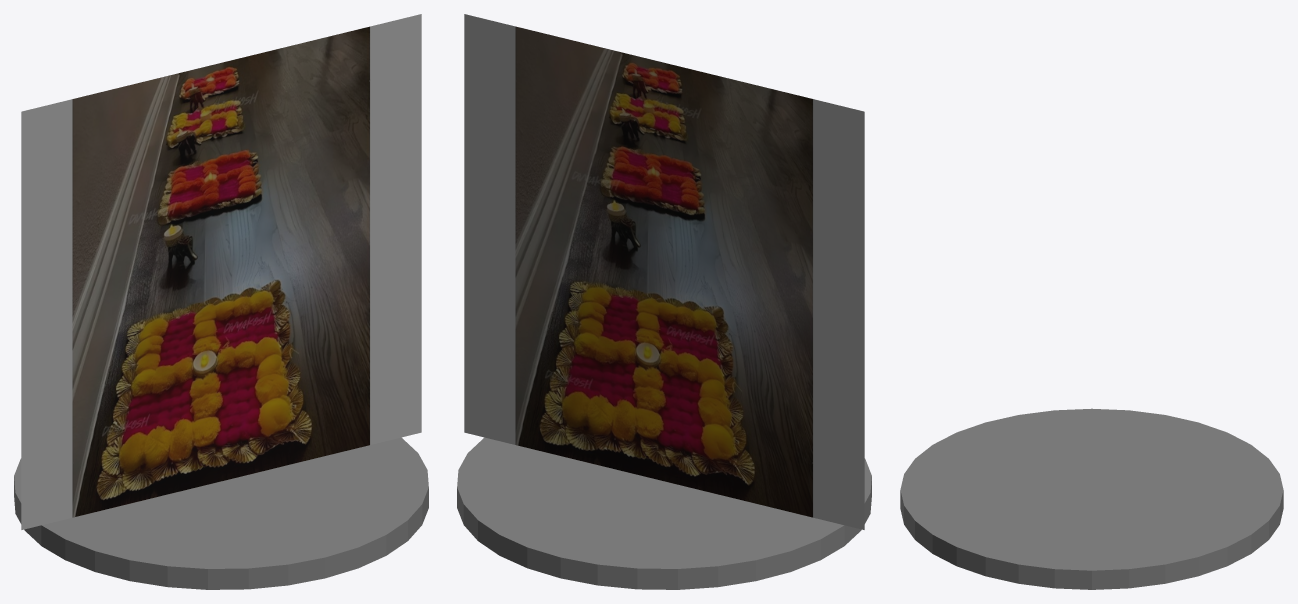
3 renders of one model, left to right at view 1: azimuth 30°, elevation 25°; view 2: azimuth 150°, elevation 25°; view 3: azimuth 270°, elevation 25°, orthographic. The views are drawn at different scales.
Parts seen in each view (by area): view 1: photo, base; view 2: photo, base; view 3: base.
Boxes of the visible parts, left/top/right/bottom form: photo: left=21, top=14, right=421, bottom=529; base: left=14, top=437, right=428, bottom=589; photo: left=464, top=14, right=864, bottom=529; base: left=457, top=437, right=871, bottom=589; base: left=900, top=408, right=1283, bottom=589.
Size of the model in its own units: 0.4 by 0.42 by 0.36.
1 material, 1 textured.
